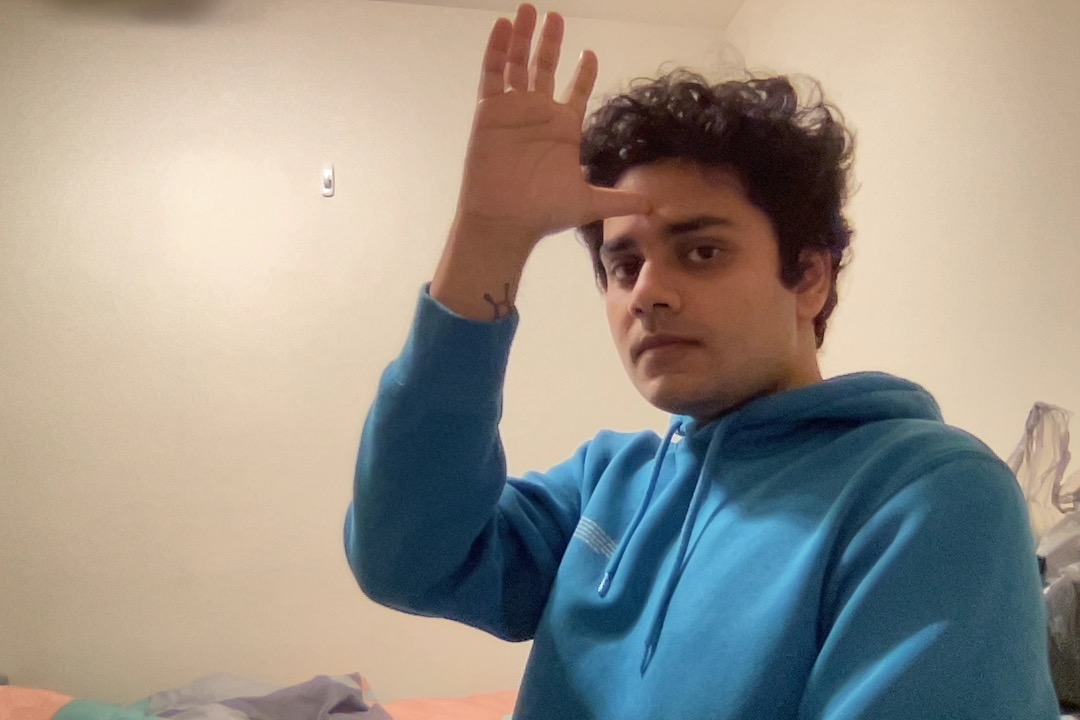Dad: (415, 1, 683, 286)
